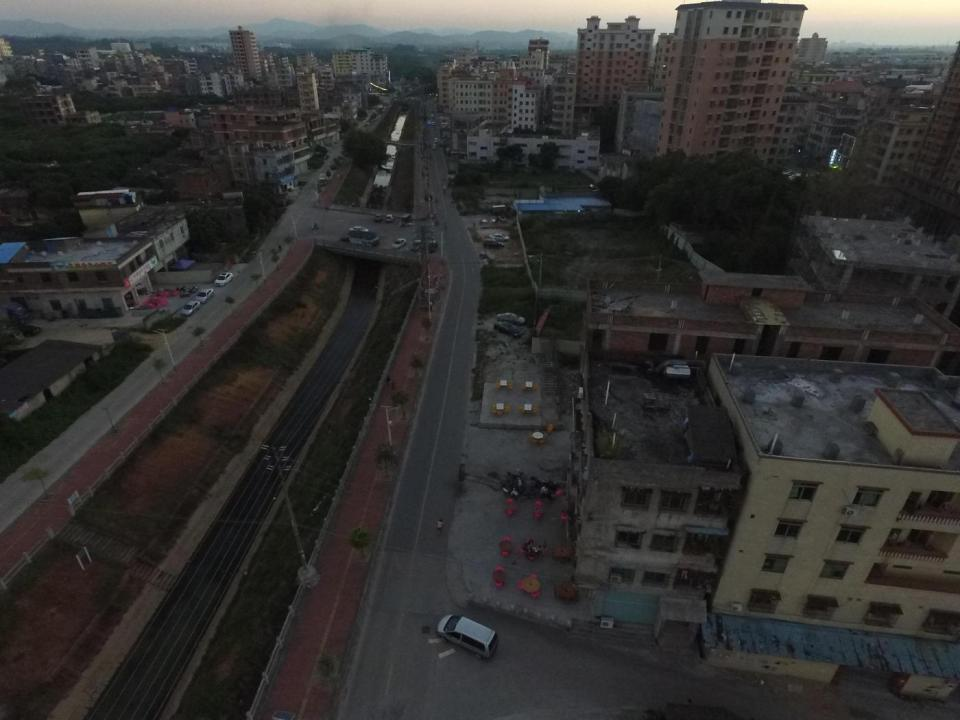car: (493, 320, 523, 338), (495, 312, 527, 326), (11, 325, 42, 338), (180, 300, 201, 316), (213, 270, 233, 286), (193, 288, 215, 302), (482, 238, 504, 251), (488, 233, 510, 242), (391, 238, 406, 251), (409, 239, 421, 251), (349, 226, 369, 233), (384, 213, 394, 223), (318, 172, 326, 183), (374, 213, 382, 222)
truck: (0, 298, 32, 325)
van: (434, 612, 498, 660)
